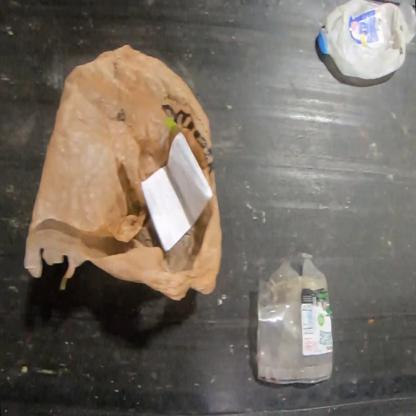rigid_plastic: (254, 258, 335, 385), (316, 0, 415, 81)
soft_plastic: (25, 43, 222, 303)
